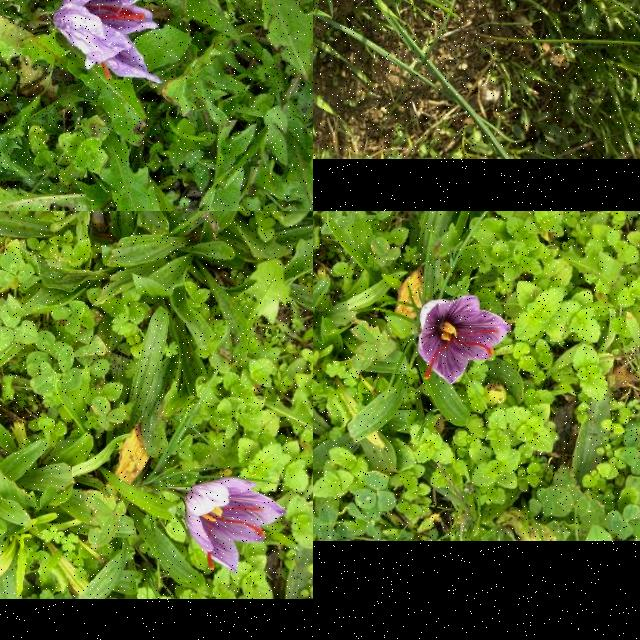flower: (185, 478, 288, 572), (53, 0, 165, 84), (418, 296, 514, 386)
